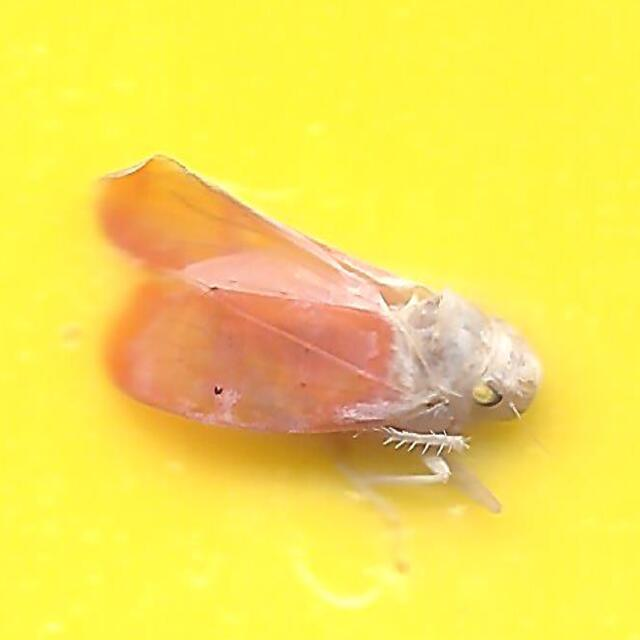Hemiptera: (97, 140, 543, 500)
